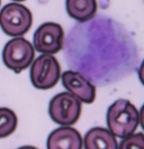M: (63, 13, 141, 84)
